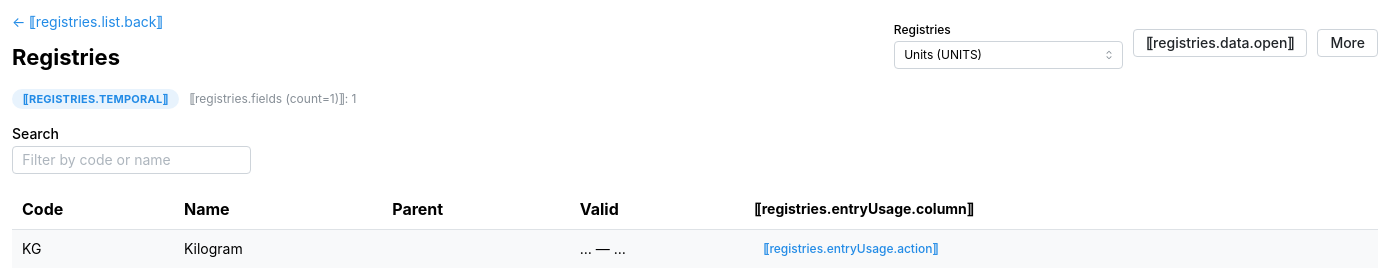
Test: L9-18: симуляція — довідники лише для читання › під симуляцією немає створення довідника, запису й правки; перехід у конструктор лишається
Expected: the text "Kilogram" is shown, [184,240,243,257]
Note: ✎ REG-UI 3/3: «New registry» і «Constructor» переїхали в меню «More».
Click the button "More".
click(1348, 42)  # box [1317,28,1378,56]
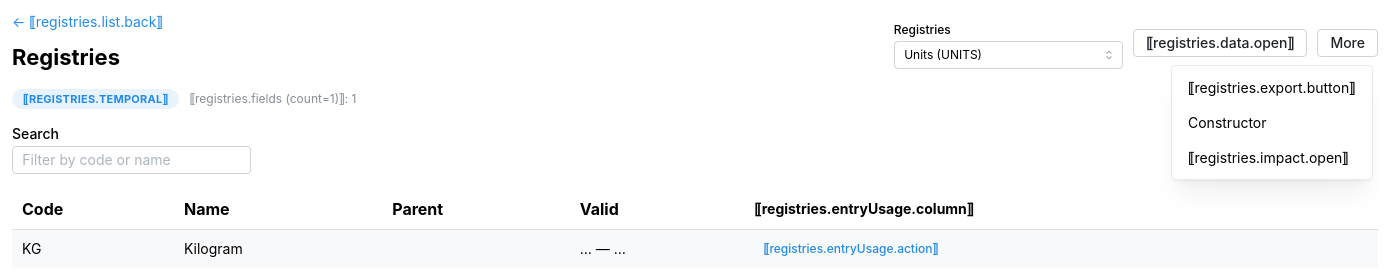
Expected: the menu item "Constructor" is shown, [1188,113,1267,130]
